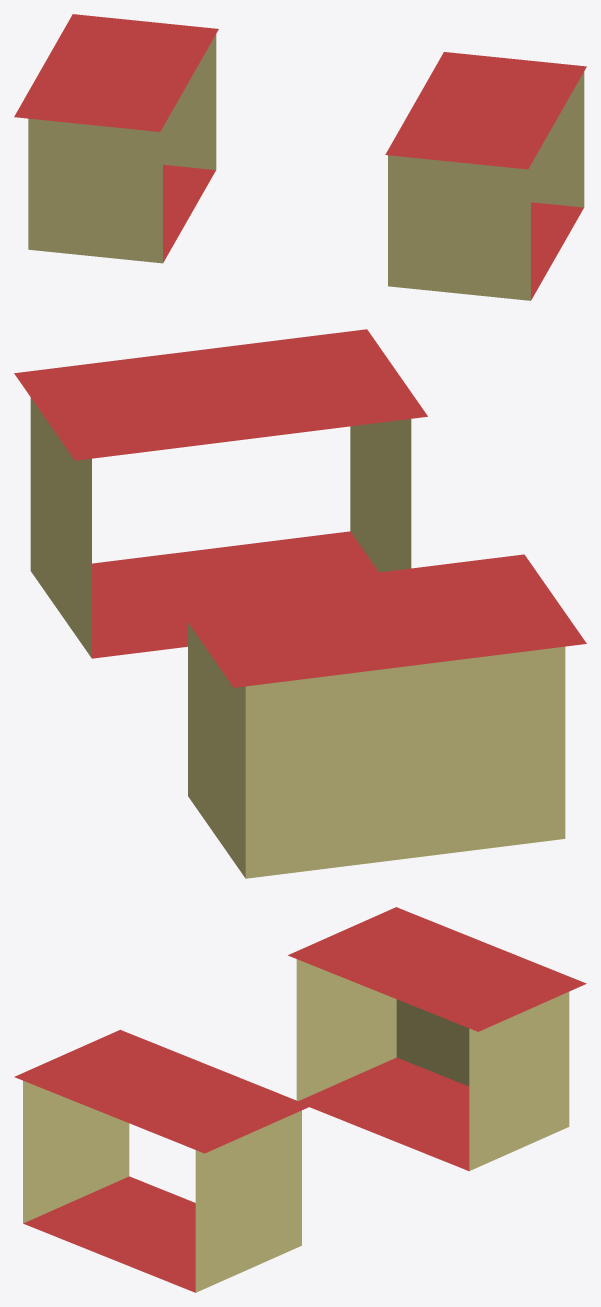
The picture shows the model from 3 angles, top to bottom: view 1: azimuth 30°, elevation 25°; view 2: azimuth 150°, elevation 25°; view 3: azimuth 270°, elevation 25°; orthographic projection. The views are drawn at different scales.
Bounding box in the file's own units: 23.29 × 22.88 × 6.3.
